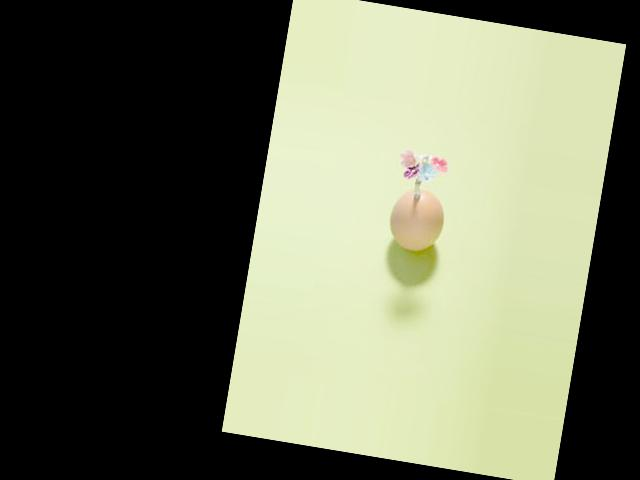egg: (385, 186, 447, 255)
